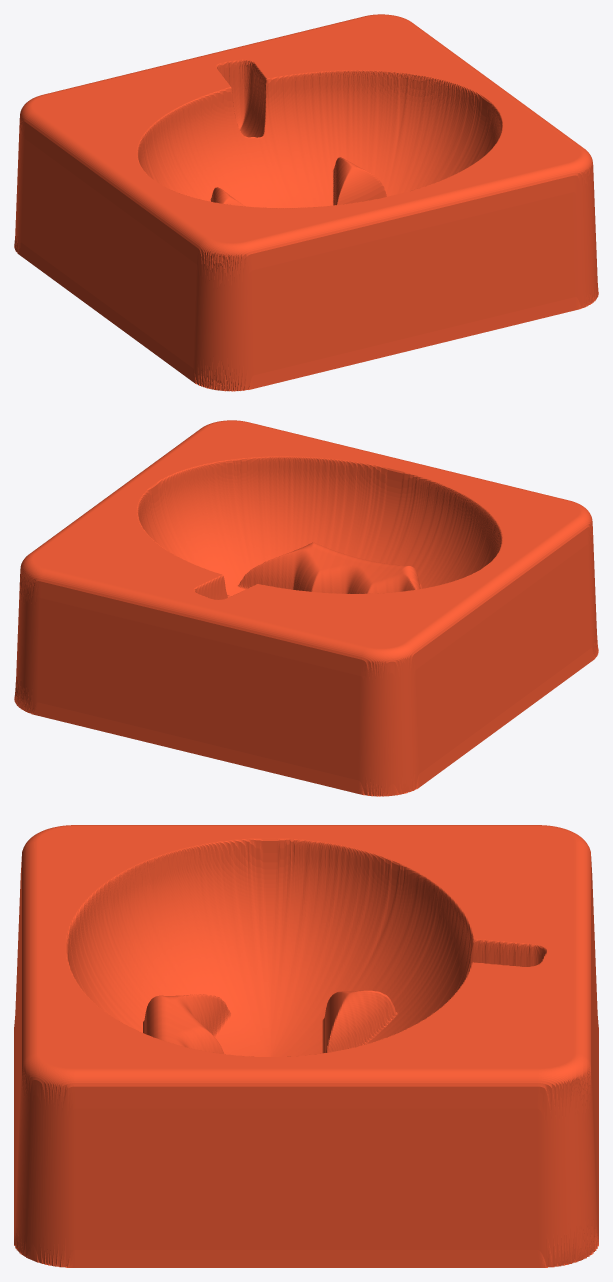
Rendered from mold.glb.
3 views of the same model, one above another, from view 1: azimuth 30°, elevation 25°; view 2: azimuth 150°, elevation 25°; view 3: azimuth 270°, elevation 25° (orthographic). The views are drawn at different scales.
Visible parts, largest first — view 1: geometry_0; view 2: geometry_0; view 3: geometry_0.
Boxes of the visible parts, x1,y1,x2,y2 form: geometry_0: (14,14,598,391); geometry_0: (14,420,598,796); geometry_0: (14,825,598,1267).
Bounding box in the file's own units: 0.0924 × 0.031 × 0.087.
